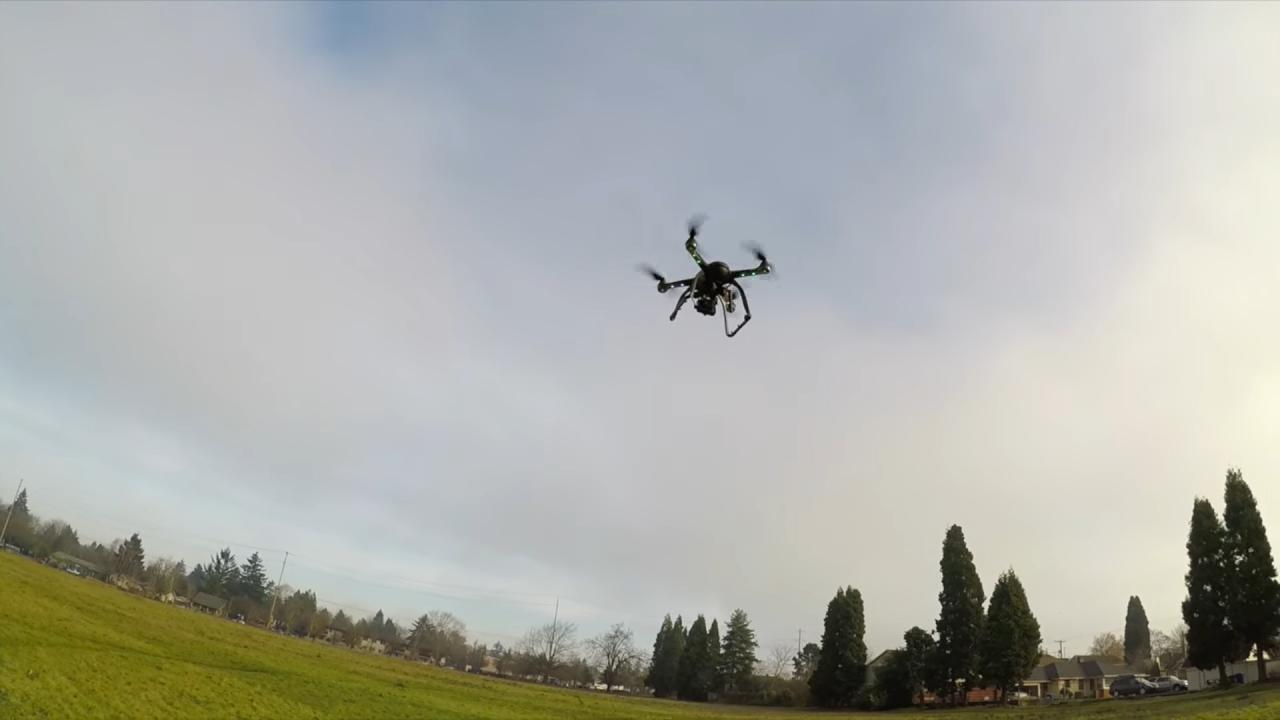Drone: (623, 194, 790, 356)
